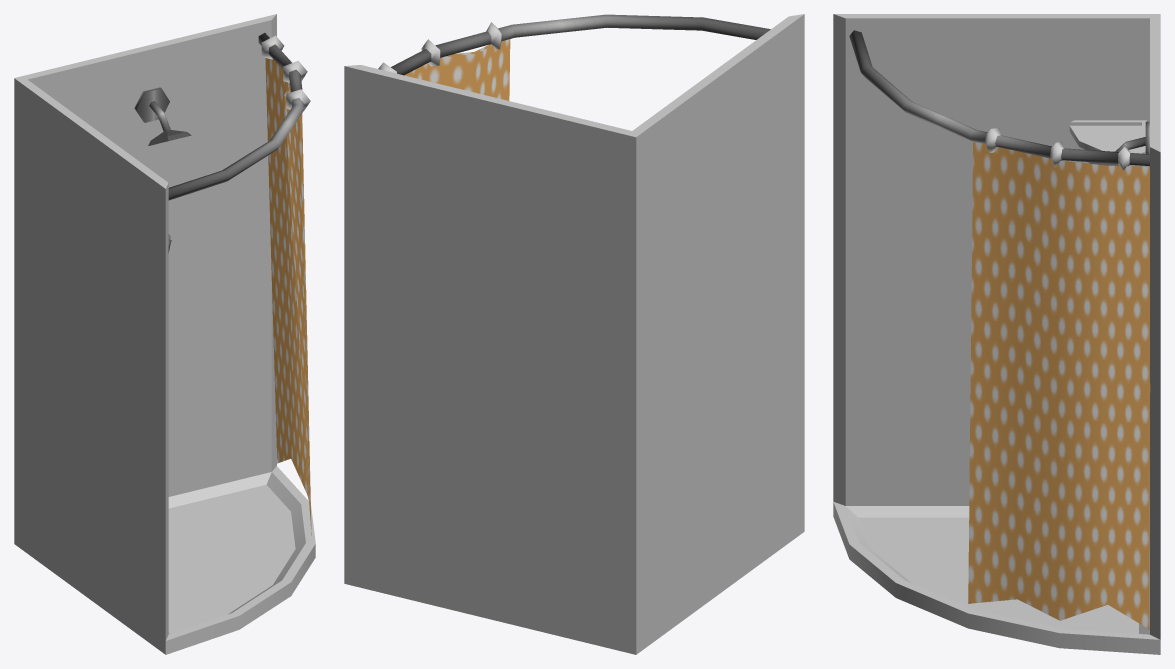
File: Shower_Stall_B.FBX
3 renders of one model, left to right at view 1: azimuth 30°, elevation 25°; view 2: azimuth 150°, elevation 25°; view 3: azimuth 270°, elevation 25°, orthographic. The views are drawn at different scales.
Parts seen in each view (by area): view 1: Shower_Stall; view 2: Shower_Stall; view 3: Shower_Stall.
Boxes of the visible parts, x1,y1,x2,y2 form: Shower_Stall: [14, 14, 315, 654]; Shower_Stall: [344, 14, 804, 654]; Shower_Stall: [833, 14, 1160, 654].
Bounding box in the file's own units: 295 × 500 × 295.
